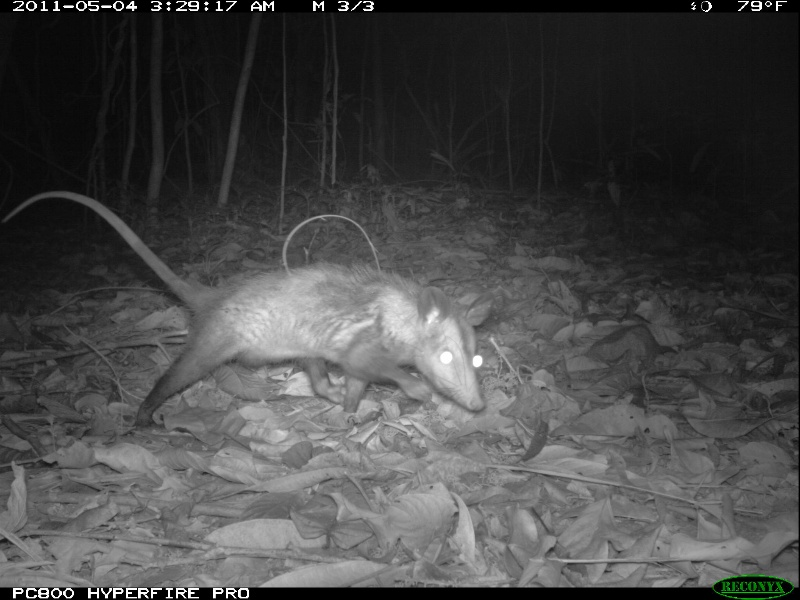opossum: (1, 189, 491, 427)
